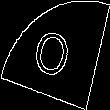O_S: (31, 24, 79, 86)
